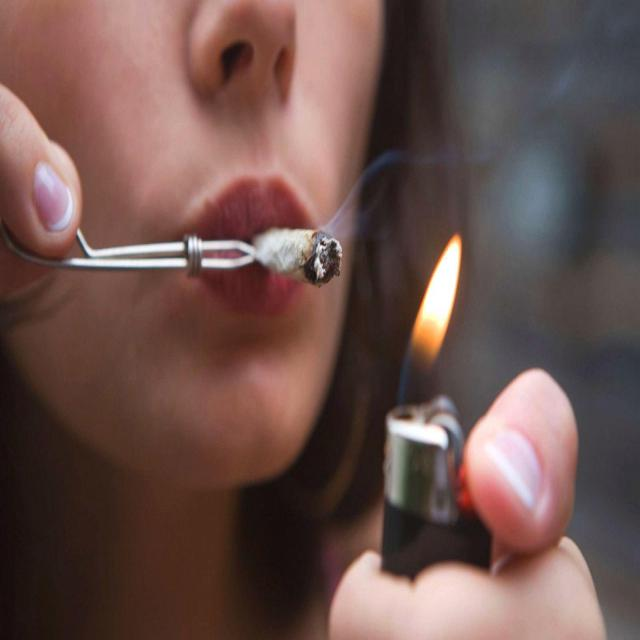smoke: (249, 222, 349, 291)
